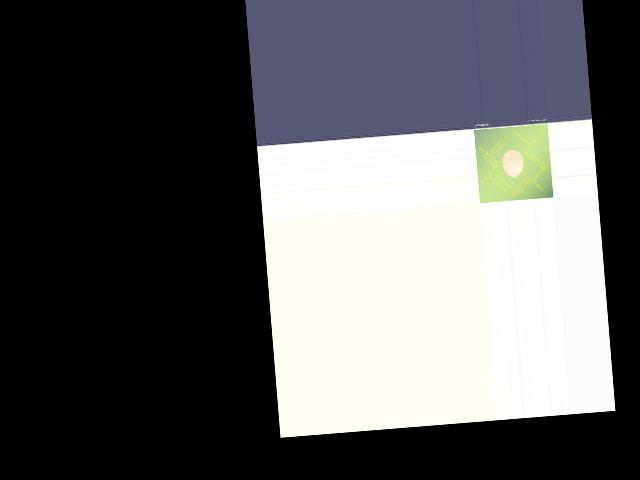egg: (502, 149, 525, 177)
